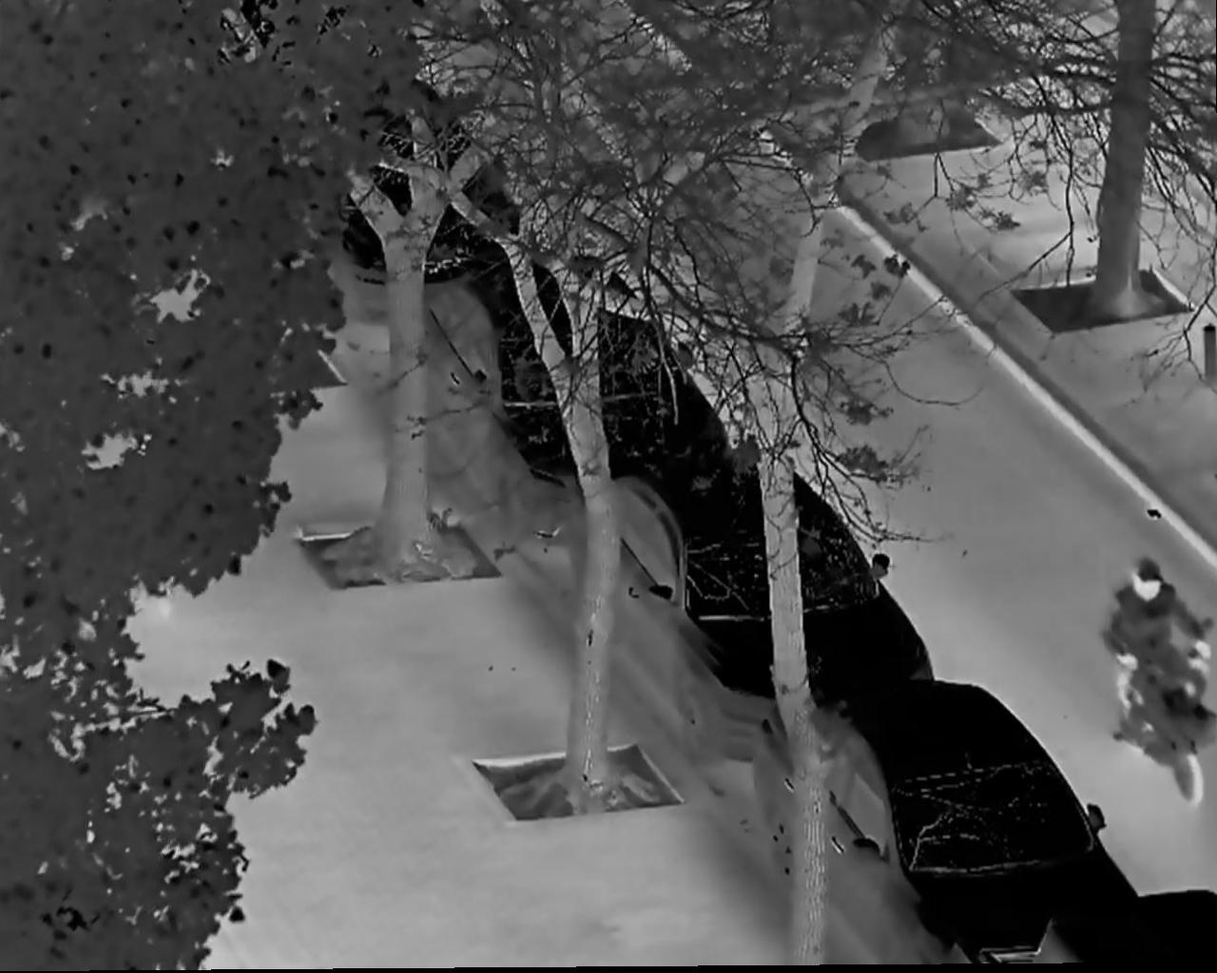person: (1094, 562, 1207, 739)
